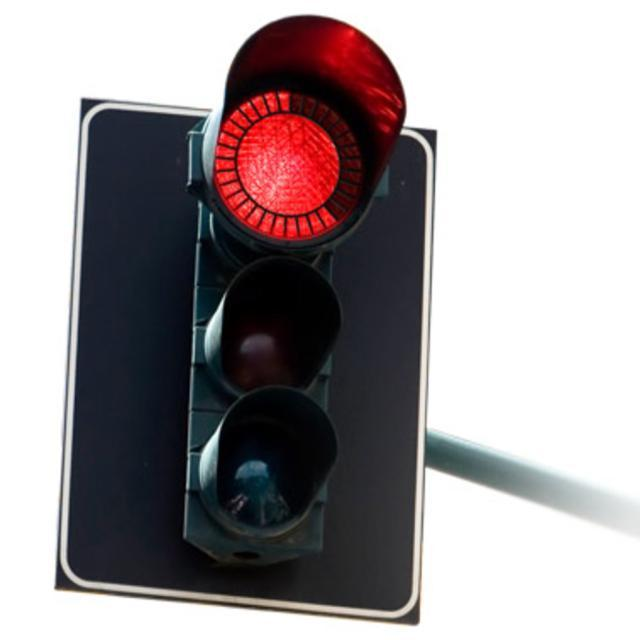traffic light: (53, 14, 439, 626)
